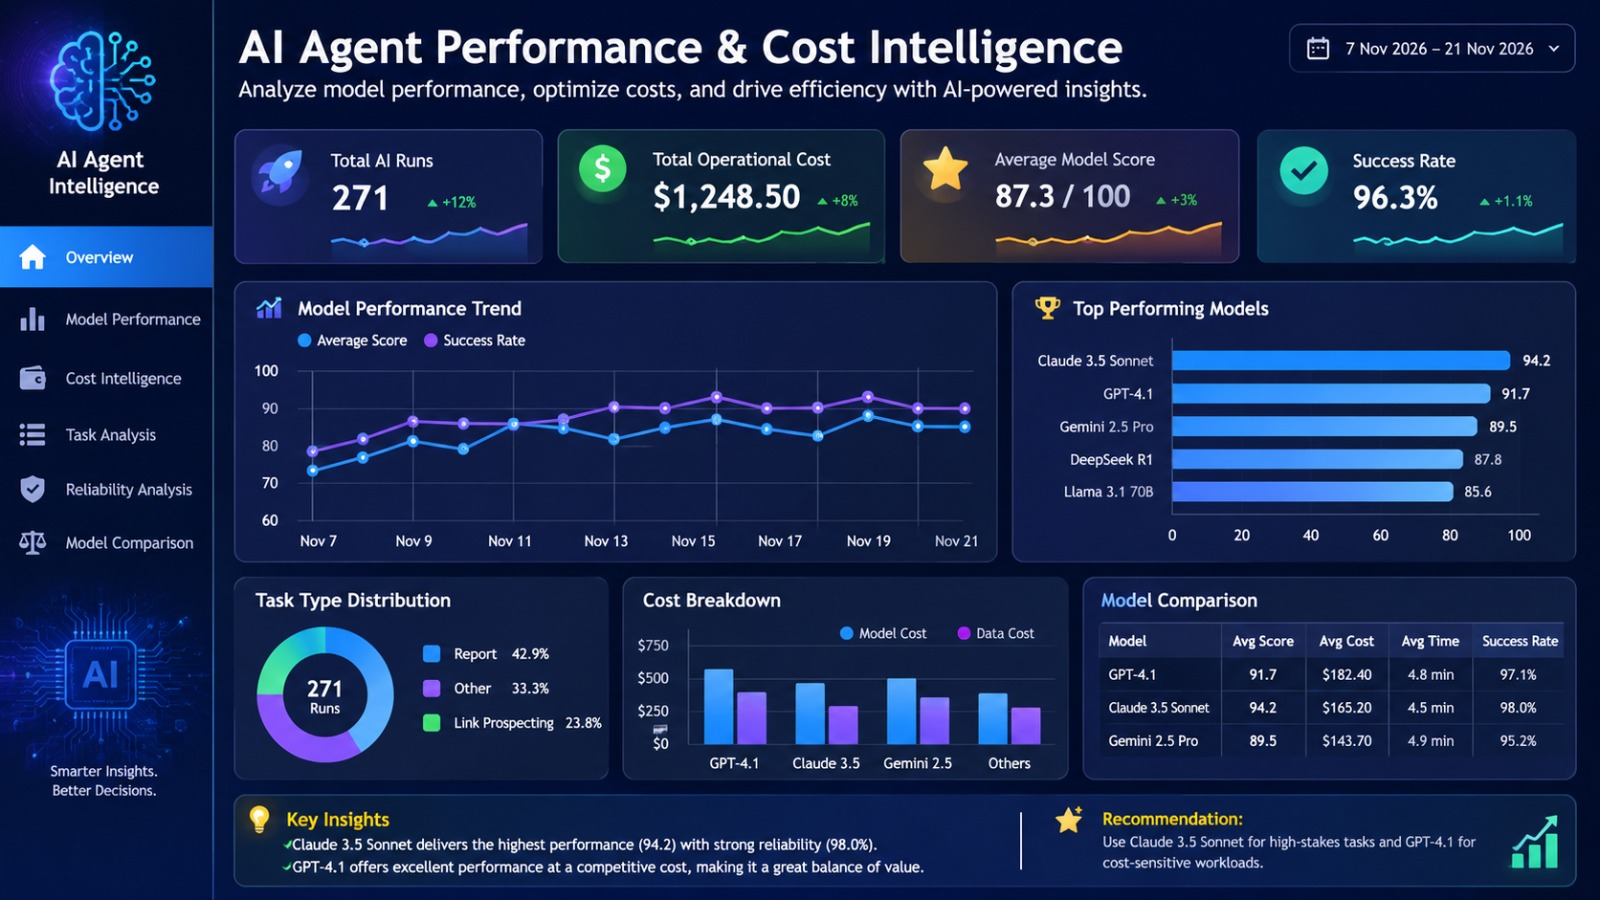

What the dashboard file says about the page in this screenshot:
{"tool":"powerbi","page":{"name":"Executive Overview","canvas":[1920,1080],"ordinal":0},"visuals":[{"type":"image","box":[10.3,0,1910.1,1080.6],"z":0}]}

Visuals, with their boxes in screenshot pixels (x1, y1, x2, y2), scaled from the page's 1920x1080 canvas onto the 1600x900 screenshot:
image: pyautogui.locateOnScreen(9, 0, 1599, 899)
